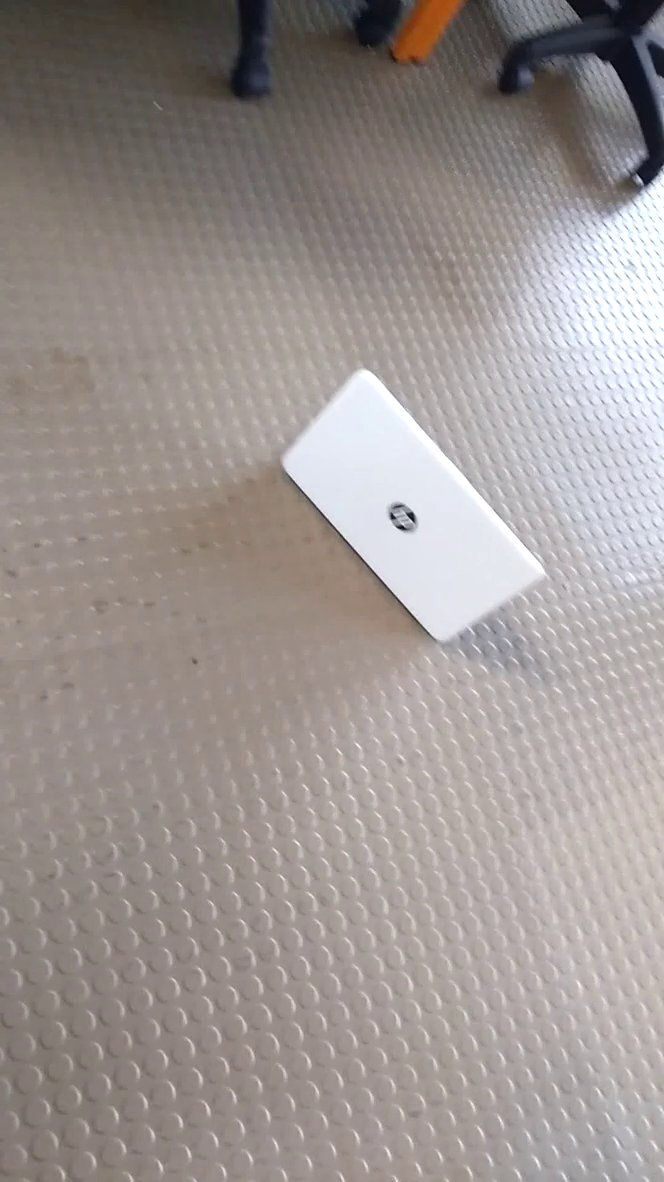laptop: (277, 356, 557, 661)
